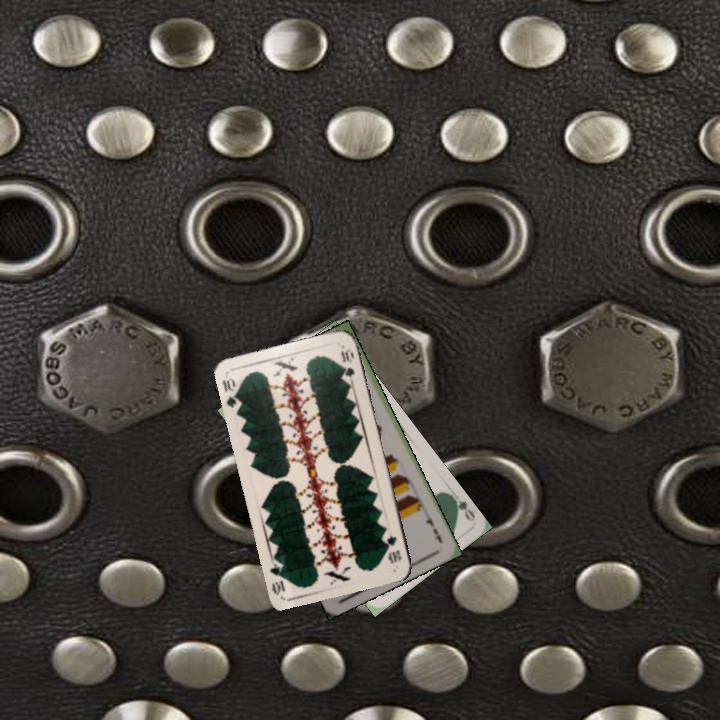E7: (420, 508, 445, 546)
G10: (218, 373, 244, 411), (382, 532, 404, 566)
GO: (444, 490, 478, 524)
